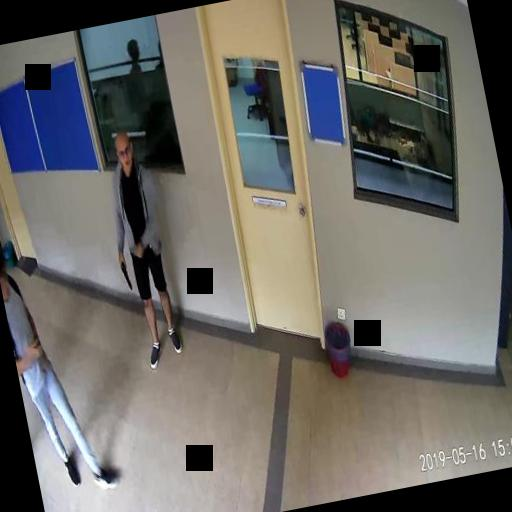Handgun: (117, 256, 132, 291)
